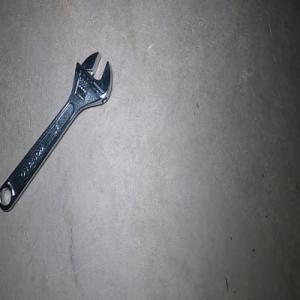Wrench: (0, 51, 112, 211)
